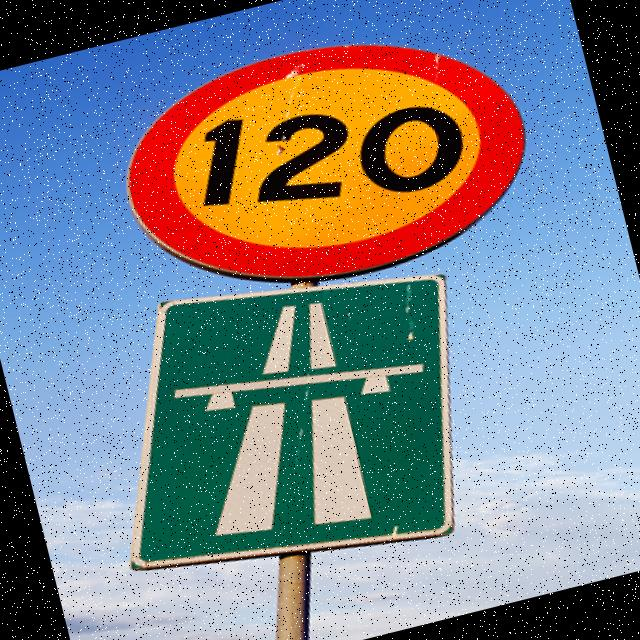speed_limit_120: (85, 0, 564, 328)
